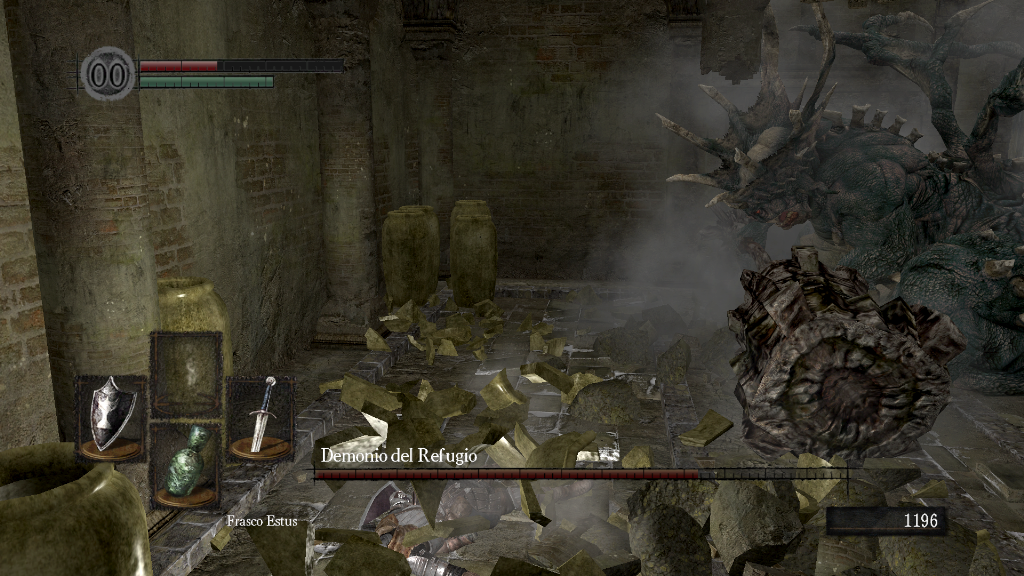asylumDemon: (647, 7, 1024, 462)
bossHP: (314, 469, 847, 479)
health: (138, 58, 343, 71)
humanity: (80, 45, 136, 102)
player: (287, 482, 557, 574)
souls: (825, 506, 945, 536)
stamina: (138, 74, 274, 88)
